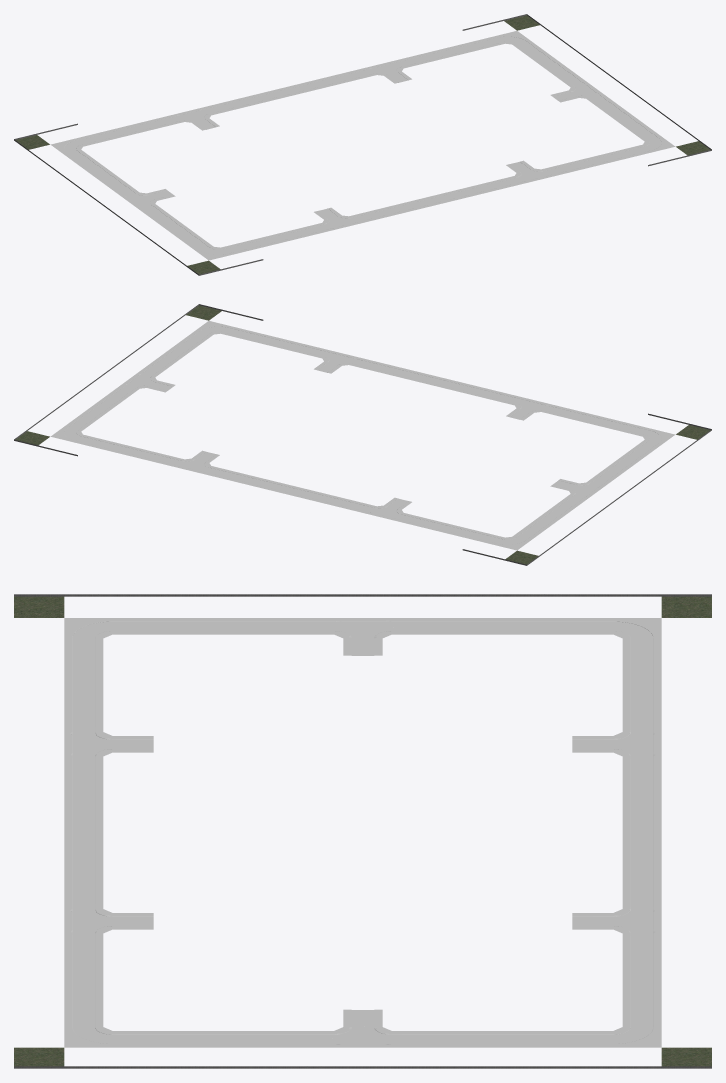
File: Border-Block-01.fbx
3 renders of one model, top to bottom at view 1: azimuth 30°, elevation 25°; view 2: azimuth 150°, elevation 25°; view 3: azimuth 270°, elevation 25°, orthographic. The views are drawn at different scales.
Visible parts, largest first — view 1: BD-T, BD-B, BD-B-Sidewalk, BD-T-Sidewalk, BD-R, BD-L, BD-R-Sidewalk, BD-L-Sidewalk, BD-RT, BD-LT, BD-RB, BD-LB; view 2: BD-B, BD-T, BD-T-Sidewalk, BD-B-Sidewalk, BD-R, BD-L, BD-R-Sidewalk, BD-L-Sidewalk, BD-RB, BD-LB, BD-RT, BD-LT; view 3: BD-T, BD-B, BD-T-Sidewalk, BD-B-Sidewalk, BD-L, BD-R, BD-R-Sidewalk, BD-L-Sidewalk, BD-LB, BD-LT, BD-RT, BD-RB (+4 smaller).
Part boxes in pixels (x1,y1,x2,y2): BD-T: (94, 42, 483, 140); BD-B: (242, 151, 631, 248); BD-B-Sidewalk: (240, 149, 633, 250); BD-T-Sidewalk: (92, 41, 485, 141); BD-R: (527, 41, 674, 132); BD-L: (51, 158, 198, 248); BD-R-Sidewalk: (523, 48, 651, 133); BD-L-Sidewalk: (74, 157, 202, 243); BD-RT: (462, 14, 563, 51); BD-LT: (14, 123, 98, 167); BD-RB: (626, 122, 711, 166); BD-LB: (162, 240, 263, 275); BD-B: (242, 332, 631, 430); BD-T: (94, 441, 483, 538); BD-T-Sidewalk: (92, 439, 485, 540); BD-B-Sidewalk: (240, 331, 633, 431); BD-R: (51, 331, 198, 422); BD-L: (527, 448, 674, 538); BD-R-Sidewalk: (74, 338, 202, 423); BD-L-Sidewalk: (523, 447, 651, 533); BD-RB: (162, 304, 263, 341); BD-LB: (627, 413, 711, 457); BD-RT: (14, 412, 99, 456); BD-LT: (462, 530, 563, 565); BD-T: (572, 656, 654, 1009); BD-B: (71, 656, 153, 1009); BD-T-Sidewalk: (572, 655, 661, 1009); BD-B-Sidewalk: (64, 655, 153, 1009); BD-L: (153, 594, 572, 655); BD-R: (153, 1010, 572, 1068); BD-R-Sidewalk: (153, 1009, 572, 1047); BD-L-Sidewalk: (153, 618, 572, 655); BD-LB: (14, 594, 153, 655); BD-LT: (572, 594, 711, 655); BD-RT: (572, 1010, 711, 1068); BD-RB: (14, 1010, 153, 1068).
Size of what is drawn, in the model's own units: 80001 by 215 by 50000.
